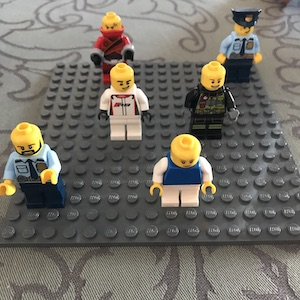Lego: (1, 121, 66, 209), (149, 132, 216, 210), (96, 61, 152, 144), (180, 60, 238, 137), (213, 7, 264, 84), (89, 9, 135, 88)
